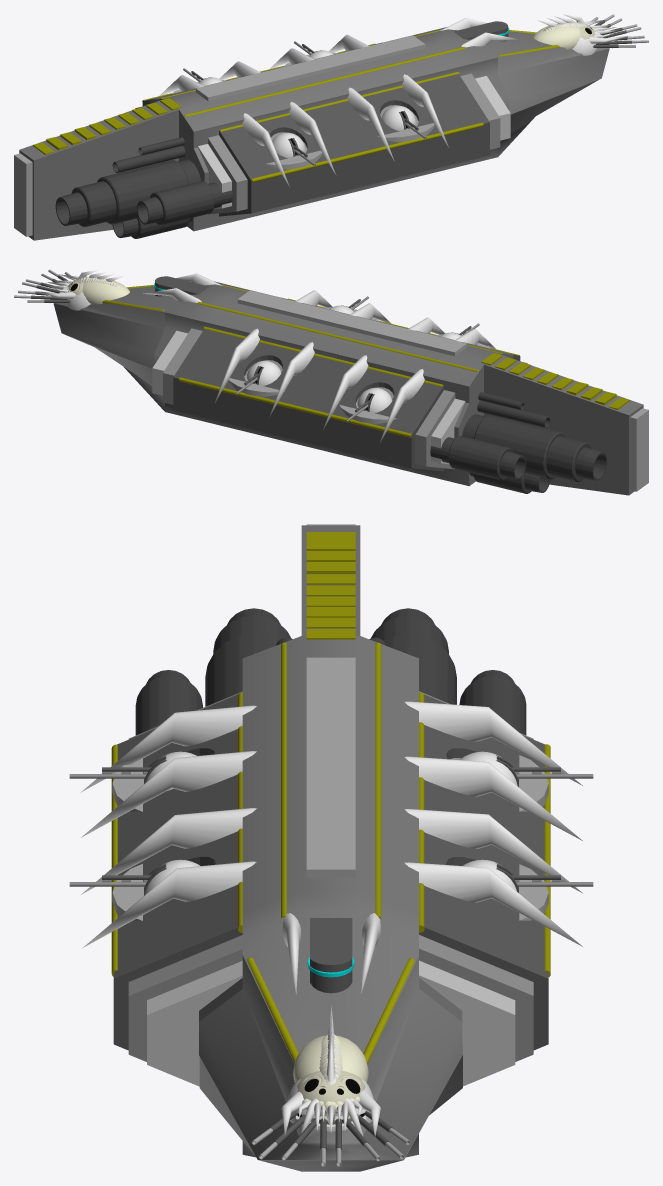
File: BossShip.fbx
3 renders of one model, top to bottom at view 1: azimuth 30°, elevation 25°; view 2: azimuth 150°, elevation 25°; view 3: azimuth 270°, elevation 25°, orthographic. The views are drawn at different scales.
Parts seen in each view (by area): view 1: group24; view 2: group24; view 3: group24.
Boxes of the visible parts, x1=… form: group24: x1=14, y1=14, x2=648, y2=240; group24: x1=14, y1=269, x2=648, y2=495; group24: x1=69, y1=524, x2=593, y2=1171.
Size of the model in its own units: 64.81 by 11.55 by 23.78.
